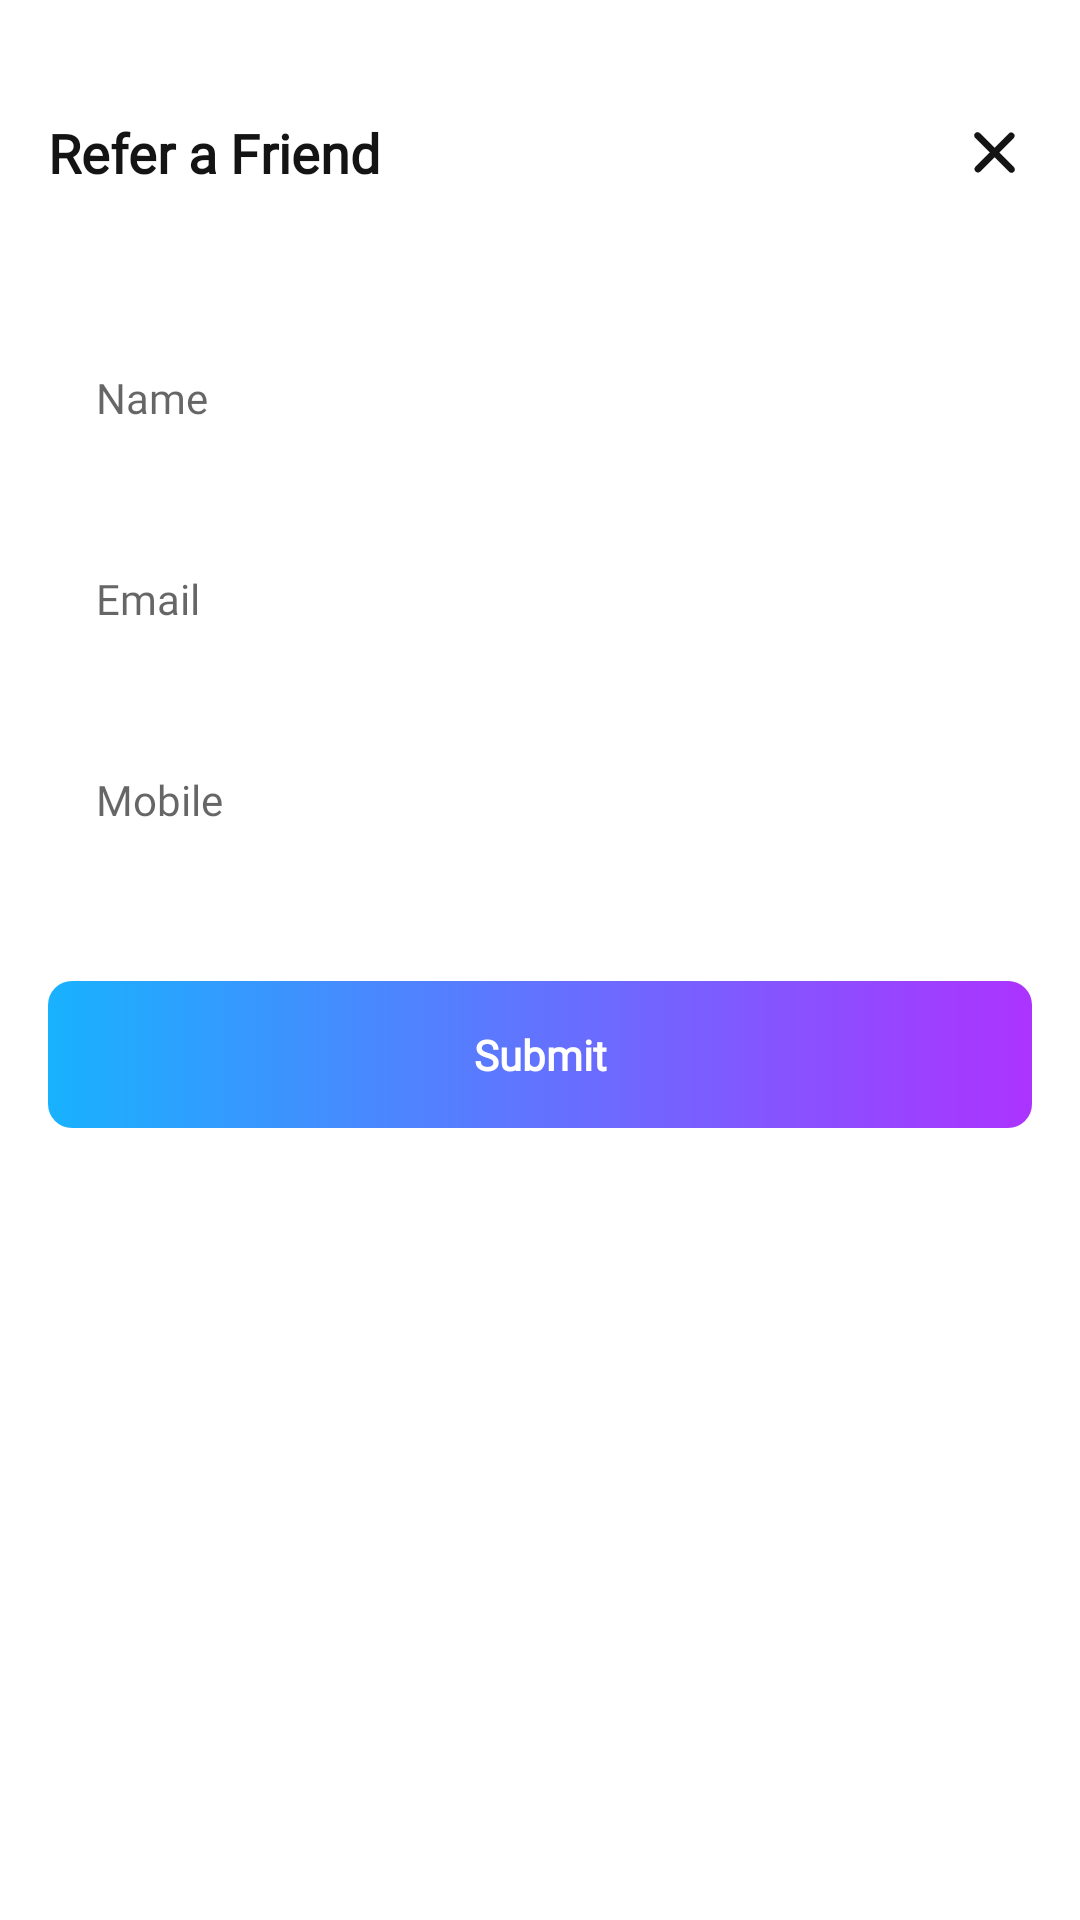

Icon bounding boxes for this 1080 × 1920 phone screenshot, format (x1, y1, x2, y2):
close: (974, 132, 1015, 173)
